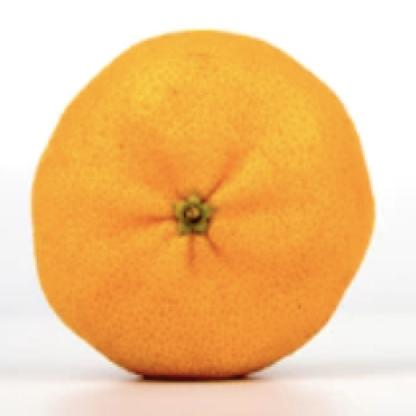fresh: (32, 30, 374, 382)
